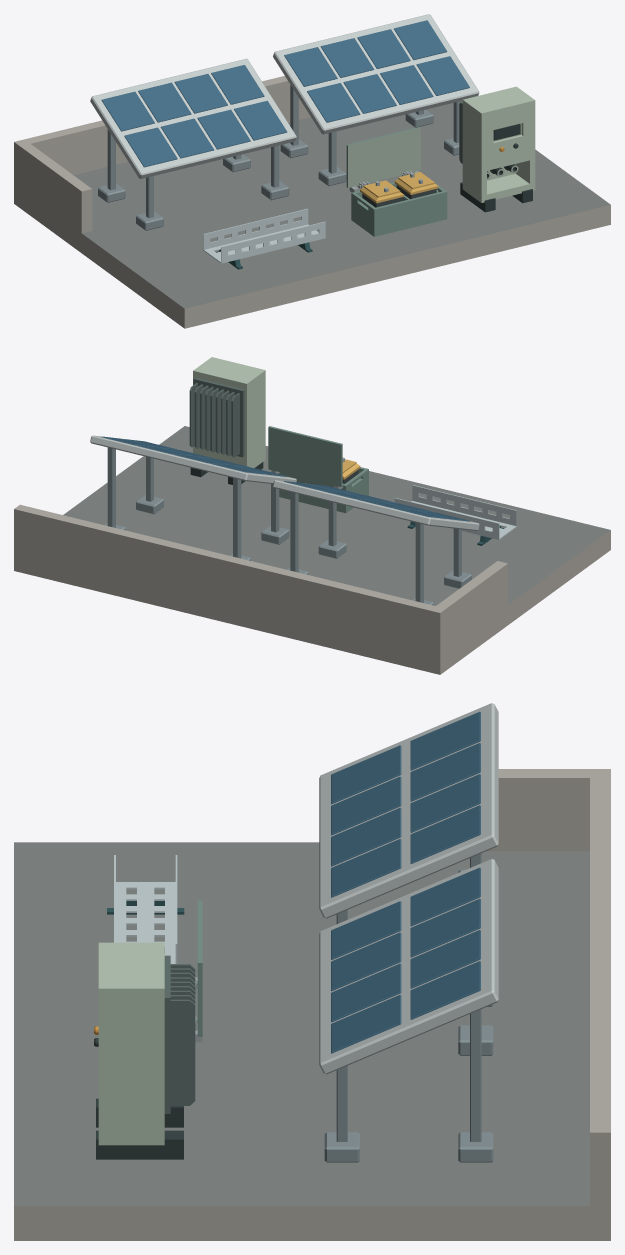
The picture shows the model from 3 angles, top to bottom: view 1: azimuth 30°, elevation 25°; view 2: azimuth 150°, elevation 25°; view 3: azimuth 270°, elevation 25°; orthographic projection. The views are drawn at different scales.
Visible parts, largest first — view 1: SCENE_ONLY__RoofDeckAndLowParapets, solar_left__renewable-solar-rack-01, solar_right__renewable-solar-rack-01, inverter__Cabinet_ContinuousRecessedHousing, tray__Tray_ContinuousPerforatedU, battery__Lid_FixedUprightThickPanel, battery__TwinBay_ContinuousBottomWallsDivider, battery__Battery_1_ClosedSteppedShoulder, battery__Battery_0_ClosedSteppedShoulder; view 2: SCENE_ONLY__RoofDeckAndLowParapets, solar_left__renewable-solar-rack-01, solar_right__renewable-solar-rack-01, inverter__Cabinet_ContinuousRecessedHousing, battery__Lid_FixedUprightThickPanel, tray__Tray_ContinuousPerforatedU, battery__TwinBay_ContinuousBottomWallsDivider, inverter__Rear_ThickFinRootPlate, inverter__RearFin_01; view 3: SCENE_ONLY__RoofDeckAndLowParapets, solar_right__renewable-solar-rack-01, solar_left__renewable-solar-rack-01, inverter__Cabinet_ContinuousRecessedHousing, tray__Tray_ContinuousPerforatedU, inverter__RearFin_09, inverter__GroundSkid_Right, inverter__Rear_ThickFinRootPlate, battery__Lid_FixedUprightThickPanel.
Part boxes in pixels (x1,y1,x2,y2): SCENE_ONLY__RoofDeckAndLowParapets: (14, 76, 610, 328); solar_left__renewable-solar-rack-01: (90, 58, 296, 230); solar_right__renewable-solar-rack-01: (273, 14, 479, 186); inverter__Cabinet_ContinuousRecessedHousing: (462, 86, 535, 202); tray__Tray_ContinuousPerforatedU: (203, 208, 325, 263); battery__Lid_FixedUprightThickPanel: (346, 127, 420, 187); battery__TwinBay_ContinuousBottomWallsDivider: (351, 182, 447, 236); battery__Battery_1_ClosedSteppedShoulder: (394, 172, 438, 199); battery__Battery_0_ClosedSteppedShoulder: (360, 180, 403, 207); SCENE_ONLY__RoofDeckAndLowParapets: (14, 426, 610, 674); solar_left__renewable-solar-rack-01: (273, 480, 479, 605); solar_right__renewable-solar-rack-01: (90, 435, 296, 560); inverter__Cabinet_ContinuousRecessedHousing: (193, 357, 265, 467); battery__Lid_FixedUprightThickPanel: (268, 426, 342, 486); tray__Tray_ContinuousPerforatedU: (394, 485, 516, 539); battery__TwinBay_ContinuousBottomWallsDivider: (278, 467, 368, 513); inverter__Rear_ThickFinRootPlate: (193, 377, 244, 457); inverter__RearFin_01: (231, 393, 239, 457); SCENE_ONLY__RoofDeckAndLowParapets: (14, 769, 610, 1240); solar_right__renewable-solar-rack-01: (319, 859, 498, 1162); solar_left__renewable-solar-rack-01: (319, 703, 498, 1006); inverter__Cabinet_ContinuousRecessedHousing: (98, 942, 164, 1145); tray__Tray_ContinuousPerforatedU: (114, 855, 177, 963); inverter__RearFin_09: (170, 999, 195, 1105); inverter__GroundSkid_Right: (96, 1130, 183, 1159); inverter__Rear_ThickFinRootPlate: (164, 955, 170, 1113); battery__Lid_FixedUprightThickPanel: (197, 900, 202, 1036).
Bounding box in the file's own units: 4.9 × 1.33 × 3.4.
